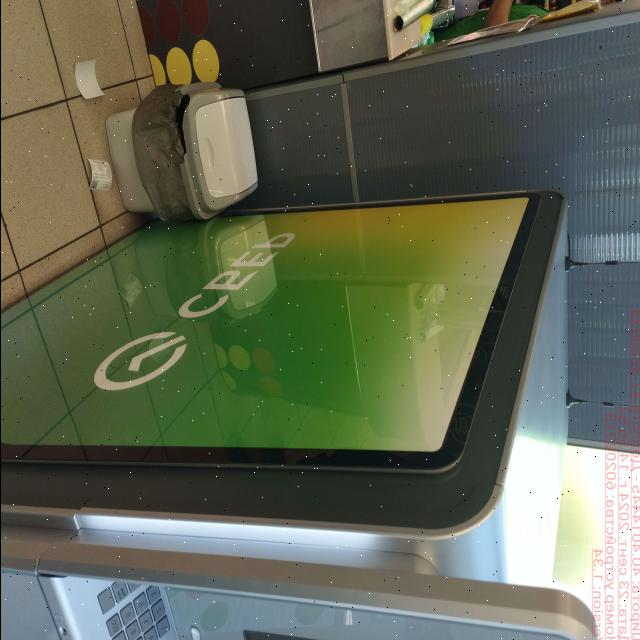bank: (0, 198, 604, 640)
